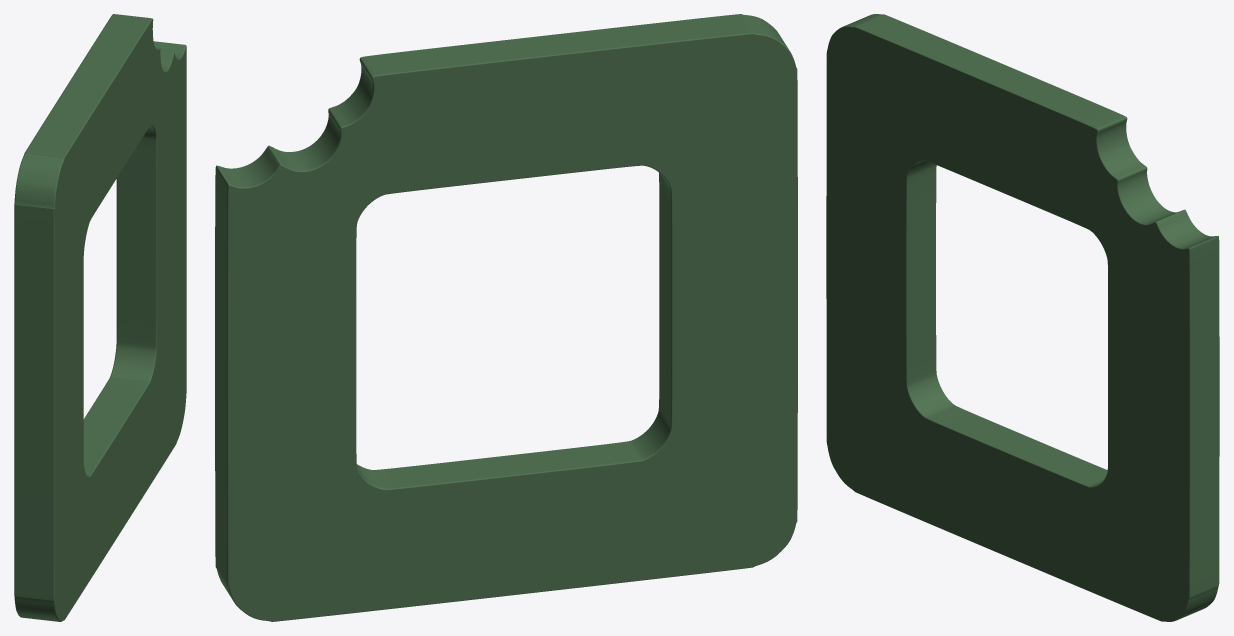
Rendered from FirstByteBitex4.glb.
The picture shows the model from 3 angles, left to right: view 1: azimuth 30°, elevation 25°; view 2: azimuth 150°, elevation 25°; view 3: azimuth 270°, elevation 25°; orthographic projection. The views are drawn at different scales.
Bounding box in the file's own units: 50.26 × 65.86 × 50.26.
